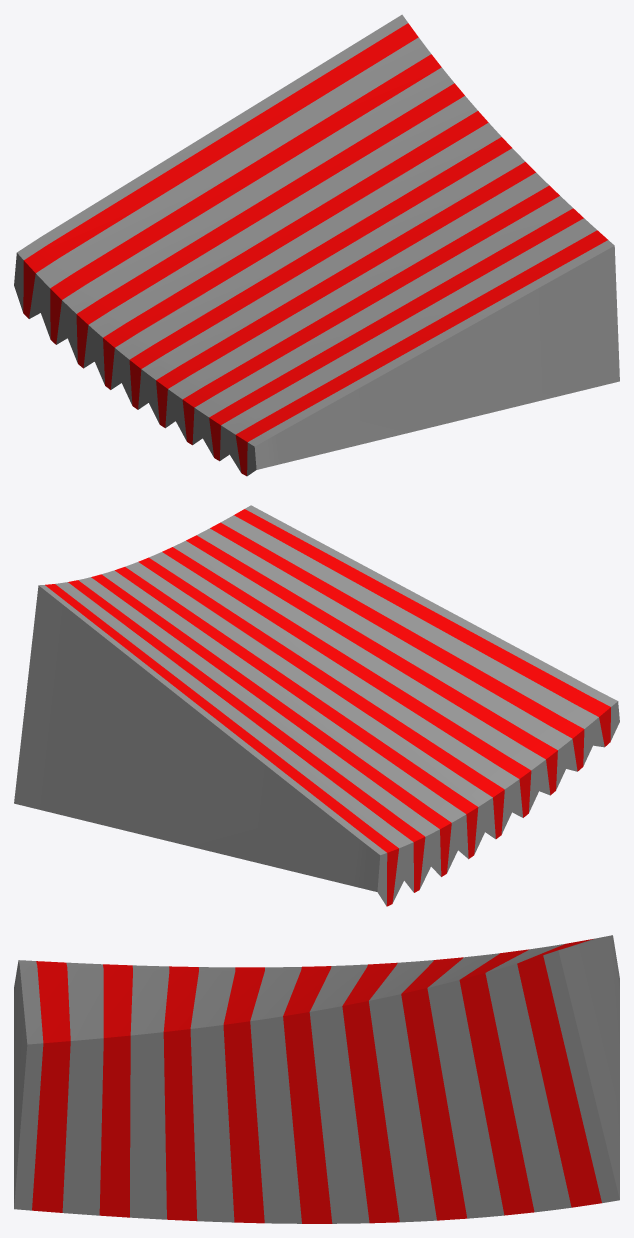
File: Hoven_top.FBX
3 renders of one model, top to bottom at view 1: azimuth 30°, elevation 25°; view 2: azimuth 150°, elevation 25°; view 3: azimuth 270°, elevation 25°, orthographic. The views are drawn at different scales.
Visible parts, largest first — view 1: Box020; view 2: Box020; view 3: Box020.
Boxes of the visible parts, <box> form: Box020: <box>14,14,619,476</box>; Box020: <box>14,505,619,906</box>; Box020: <box>14,935,619,1223</box>.
Bounding box in the file's own units: 58.42 × 35.96 × 67.49.
